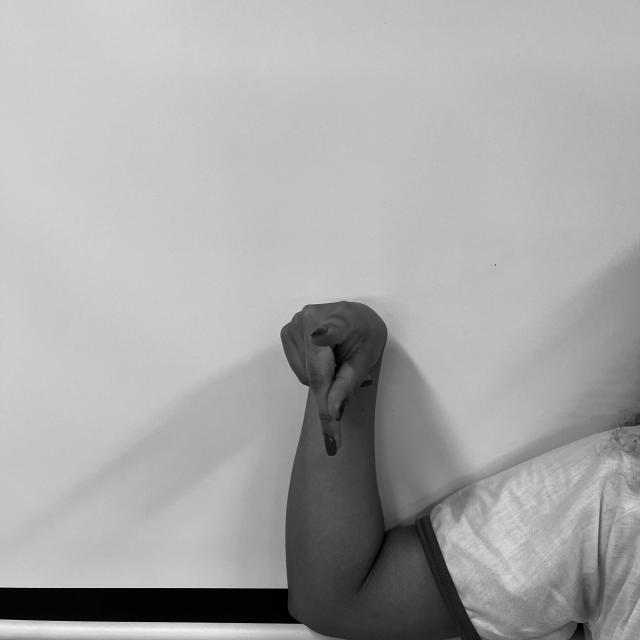Letra P: (276, 298, 392, 462)
